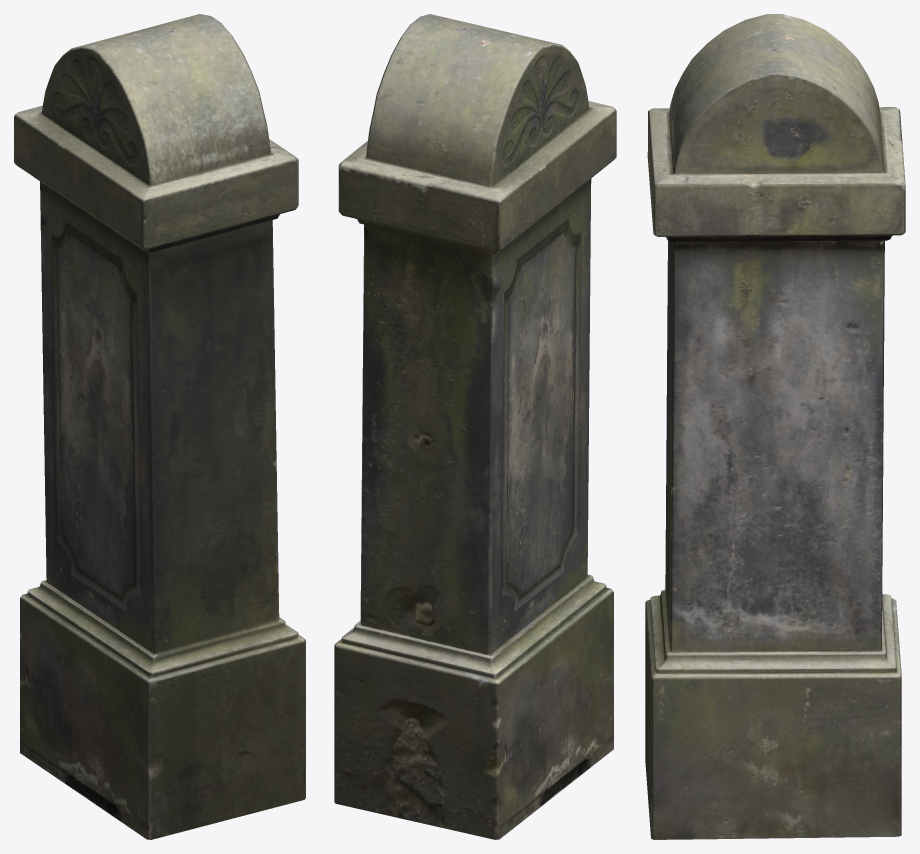
File: sm_PlatformPillars_01_04.fbx
The picture shows the model from 3 angles, left to right: view 1: azimuth 30°, elevation 25°; view 2: azimuth 150°, elevation 25°; view 3: azimuth 270°, elevation 25°; orthographic projection.
Parts seen in each view (by area): view 1: sm_PlatformPillars_01_04_LOD0; view 2: sm_PlatformPillars_01_04_LOD0; view 3: sm_PlatformPillars_01_04_LOD0.
Boxes of the visible parts, x1=… form: sm_PlatformPillars_01_04_LOD0: x1=14, y1=14, x2=305, y2=839; sm_PlatformPillars_01_04_LOD0: x1=334, y1=14, x2=616, y2=839; sm_PlatformPillars_01_04_LOD0: x1=645, y1=14, x2=905, y2=839.
Bounding box in the file's own units: 28.57 × 36.81 × 118.
